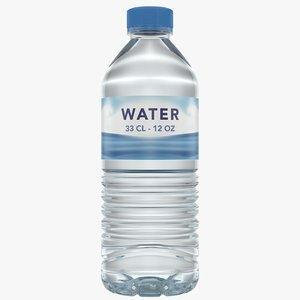bottle: (94, 4, 208, 300)
